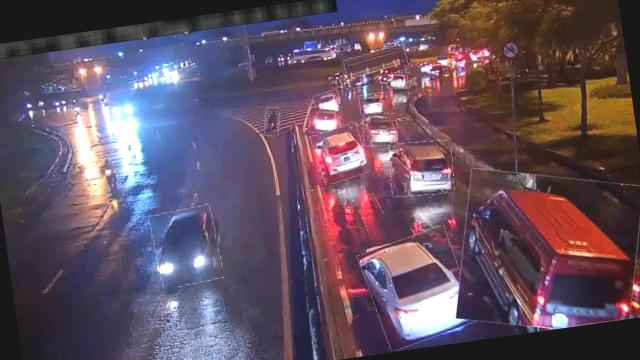Bike: (262, 106, 282, 137)
Bus: (443, 155, 640, 341)
Car: (360, 226, 474, 349), (149, 204, 223, 288), (386, 136, 457, 200), (311, 122, 368, 184), (360, 110, 399, 148), (308, 103, 342, 134), (358, 92, 388, 114), (313, 90, 342, 112), (386, 70, 412, 90)
Truck: (344, 46, 409, 82)
